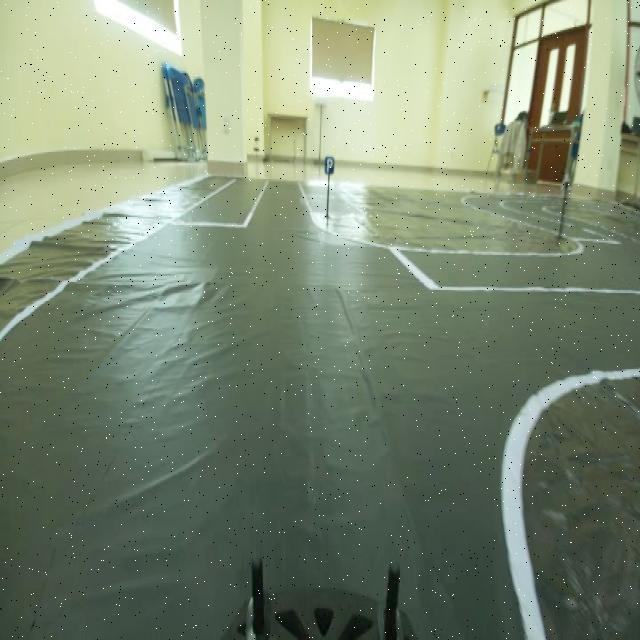parking: (321, 152, 336, 178)
